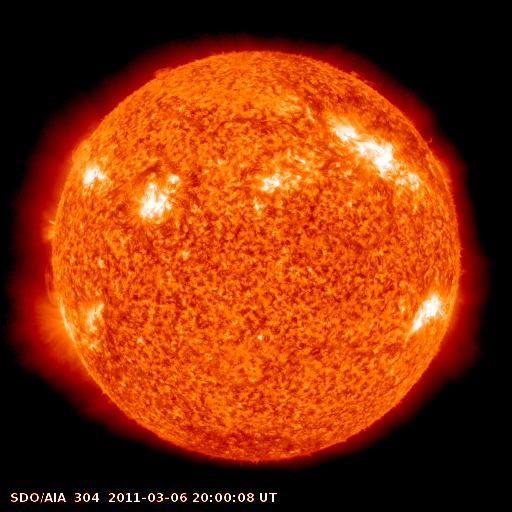prominence: (32, 258, 65, 312)
